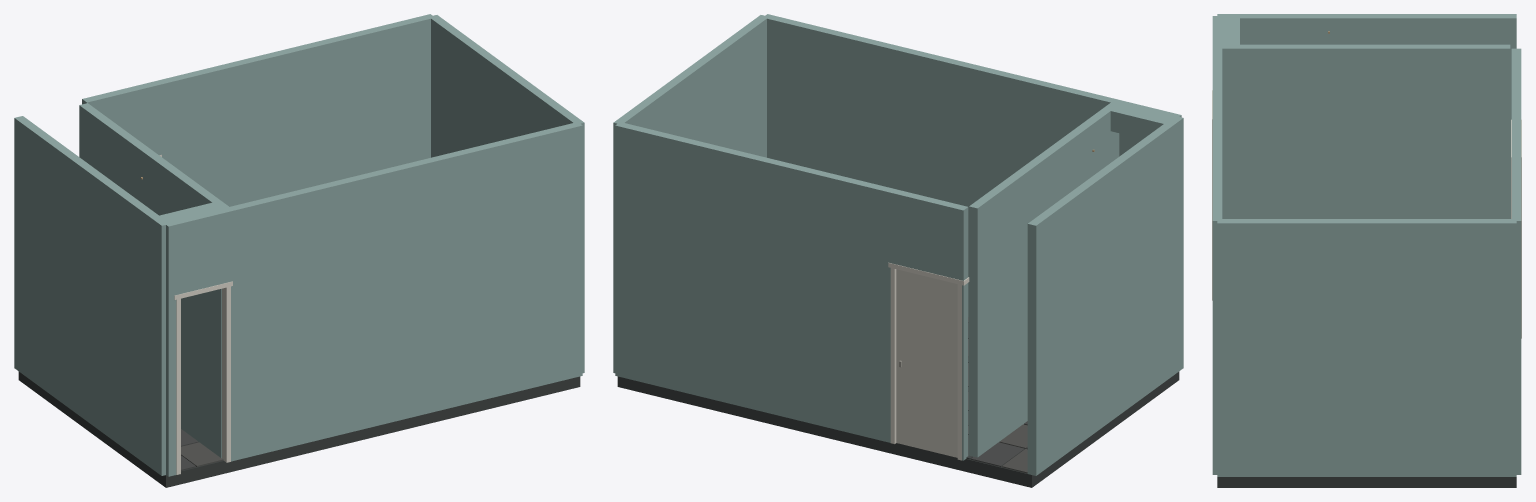
The model's file is habitacion_pasillo_base.glb.
The picture shows the model from 3 angles, left to right: view 1: azimuth 30°, elevation 25°; view 2: azimuth 150°, elevation 25°; view 3: azimuth 270°, elevation 25°; orthographic projection.
Parts seen in each view (by area): view 1: pared_entrada_bano_habitacion_pasillo_norte, pared_larga_izquierda_habitacion_pasillo, pared_fondo_habitacion_pasillo_norte, pared_divisoria_habitacion_pasillo, pared_larga_derecha_habitacion_pasillo, base_suelo_habitacion_pasillo, pared_entrada_bano_habitacion_pasillo_dintel, pared_entrada_bano_habitacion_pasillo_sur, pared_fondo_habitacion_pasillo_dintel, marco_entrada_bano_habitacion_pasillo_norte, marco_entrada_bano_habitacion_pasillo_sur, baldosa_continuacion_pasillo_1_5 (+1 smaller); view 2: pared_fondo_habitacion_pasillo_norte, pared_larga_izquierda_habitacion_pasillo, pared_entrada_bano_habitacion_pasillo_norte, pared_divisoria_habitacion_pasillo, pared_larga_derecha_habitacion_pasillo, hoja_puerta_habitacion_pasillo, base_suelo_habitacion_pasillo, pared_fondo_habitacion_pasillo_dintel, pared_fondo_habitacion_pasillo_junto_tabique, saliente_superior_entrada_bano, marco_puerta_habitacion_pasillo_derecho, marco_puerta_habitacion_pasillo_izquierdo (+1 smaller); view 3: pared_larga_derecha_habitacion_pasillo, pared_divisoria_habitacion_pasillo, pared_larga_izquierda_habitacion_pasillo, pared_entrada_bano_habitacion_pasillo_norte, base_suelo_habitacion_pasillo, pared_fondo_habitacion_pasillo_norte, saliente_superior_entrada_bano, pared_fondo_habitacion_pasillo_dintel.
Part boxes in pixels (x1=…): pared_entrada_bano_habitacion_pasillo_norte: x1=224, y1=122, x2=582, y2=461; pared_larga_izquierda_habitacion_pasillo: x1=14, y1=116, x2=169, y2=475; pared_fondo_habitacion_pasillo_norte: x1=153, y1=14, x2=434, y2=206; pared_divisoria_habitacion_pasillo: x1=79, y1=103, x2=228, y2=458; pared_larga_derecha_habitacion_pasillo: x1=429, y1=15, x2=584, y2=373; base_suelo_habitacion_pasillo: x1=18, y1=371, x2=580, y2=487; pared_entrada_bano_habitacion_pasillo_dintel: x1=174, y1=208, x2=228, y2=294; pared_entrada_bano_habitacion_pasillo_sur: x1=166, y1=221, x2=178, y2=476; pared_fondo_habitacion_pasillo_dintel: x1=86, y1=81, x2=157, y2=153; marco_entrada_bano_habitacion_pasillo_norte: x1=222, y1=284, x2=230, y2=462; marco_entrada_bano_habitacion_pasillo_sur: x1=176, y1=296, x2=180, y2=474; baldosa_continuacion_pasillo_1_5: x1=181, y1=442, x2=223, y2=466; pared_fondo_habitacion_pasillo_norte: x1=615, y1=122, x2=897, y2=442; pared_larga_izquierda_habitacion_pasillo: x1=1027, y1=116, x2=1183, y2=475; pared_entrada_bano_habitacion_pasillo_norte: x1=763, y1=14, x2=1121, y2=316; pared_divisoria_habitacion_pasillo: x1=969, y1=102, x2=1119, y2=457; pared_larga_derecha_habitacion_pasillo: x1=613, y1=15, x2=768, y2=373; hoja_puerta_habitacion_pasillo: x1=896, y1=269, x2=957, y2=457; base_suelo_habitacion_pasillo: x1=617, y1=371, x2=1179, y2=487; pared_fondo_habitacion_pasillo_dintel: x1=893, y1=190, x2=964, y2=279; pared_fondo_habitacion_pasillo_junto_tabique: x1=960, y1=206, x2=968, y2=460; saliente_superior_entrada_bano: x1=1109, y1=102, x2=1178, y2=138; marco_puerta_habitacion_pasillo_derecho: x1=890, y1=265, x2=896, y2=443; marco_puerta_habitacion_pasillo_izquierdo: x1=957, y1=282, x2=961, y2=460; pared_larga_derecha_habitacion_pasillo: x1=1217, y1=219, x2=1516, y2=476; pared_divisoria_habitacion_pasillo: x1=1222, y1=44, x2=1510, y2=218; pared_larga_izquierda_habitacion_pasillo: x1=1217, y1=14, x2=1516, y2=218; pared_entrada_bano_habitacion_pasillo_norte: x1=1212, y1=46, x2=1222, y2=474; base_suelo_habitacion_pasillo: x1=1217, y1=477, x2=1516, y2=487; pared_fondo_habitacion_pasillo_norte: x1=1511, y1=83, x2=1521, y2=474; saliente_superior_entrada_bano: x1=1217, y1=16, x2=1239, y2=45; pared_fondo_habitacion_pasillo_dintel: x1=1511, y1=50, x2=1521, y2=83.
Bounding box in the file's own units: 5.48 × 3.26 × 3.43.
